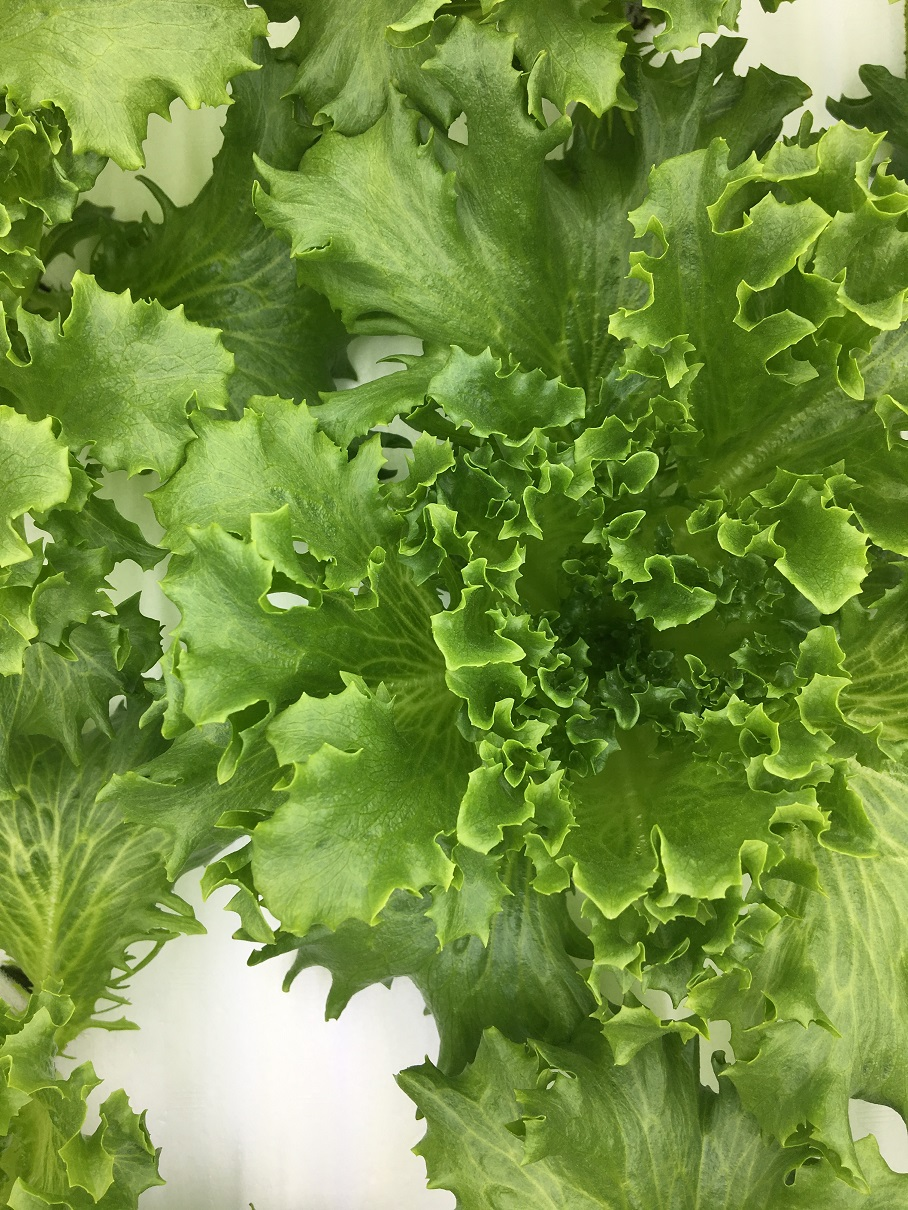tipburn: (224, 926, 241, 947)
